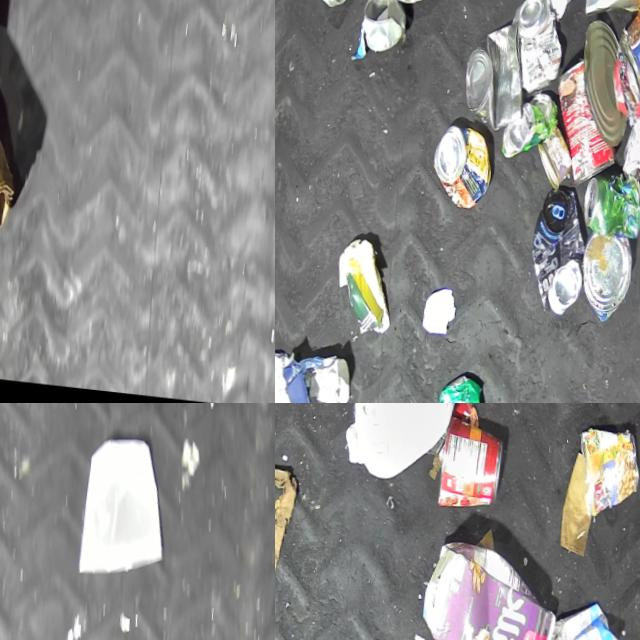can: (546, 53, 625, 186), (523, 184, 591, 316), (459, 14, 531, 132), (573, 16, 635, 144), (434, 413, 506, 513), (570, 423, 640, 520), (427, 120, 494, 210), (503, 0, 566, 93), (574, 230, 634, 323), (577, 166, 640, 238), (498, 86, 557, 161), (609, 0, 640, 100), (531, 123, 574, 188), (357, 0, 408, 50), (614, 113, 640, 207), (427, 370, 483, 403)
milk_jug: (337, 403, 467, 486)
non_white_jug: (414, 532, 562, 640)
